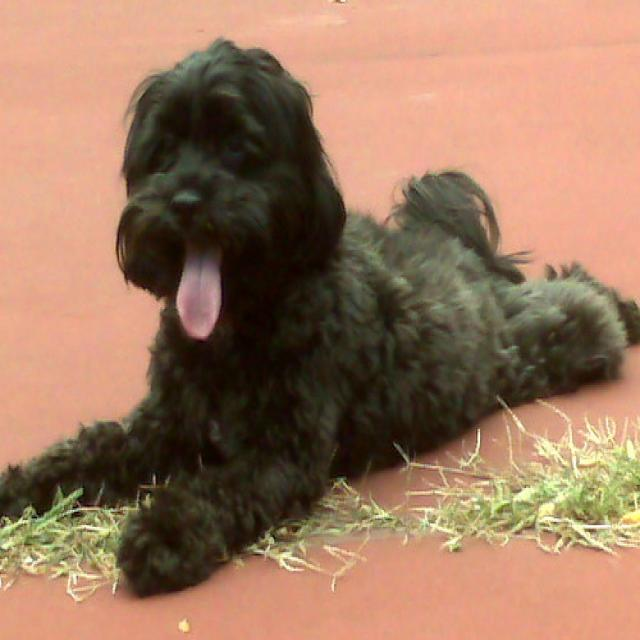dog-havanese: (1, 22, 637, 598)
